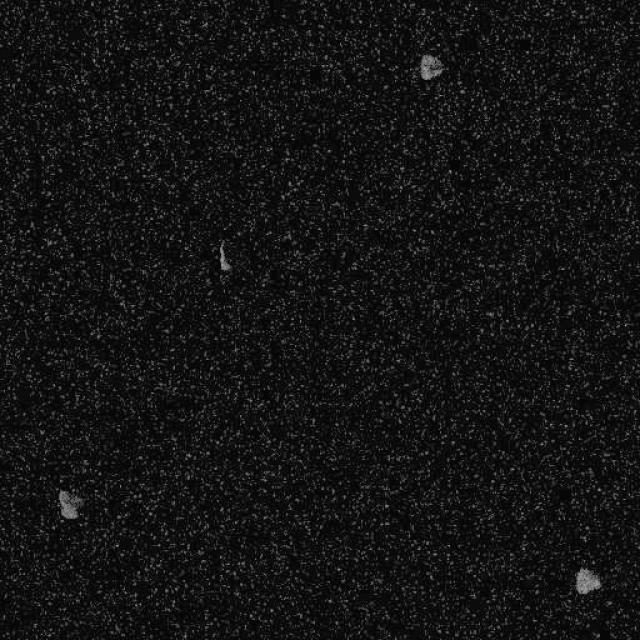D2: (56, 488, 84, 520), (574, 566, 601, 595), (419, 52, 445, 80), (216, 241, 232, 271)
